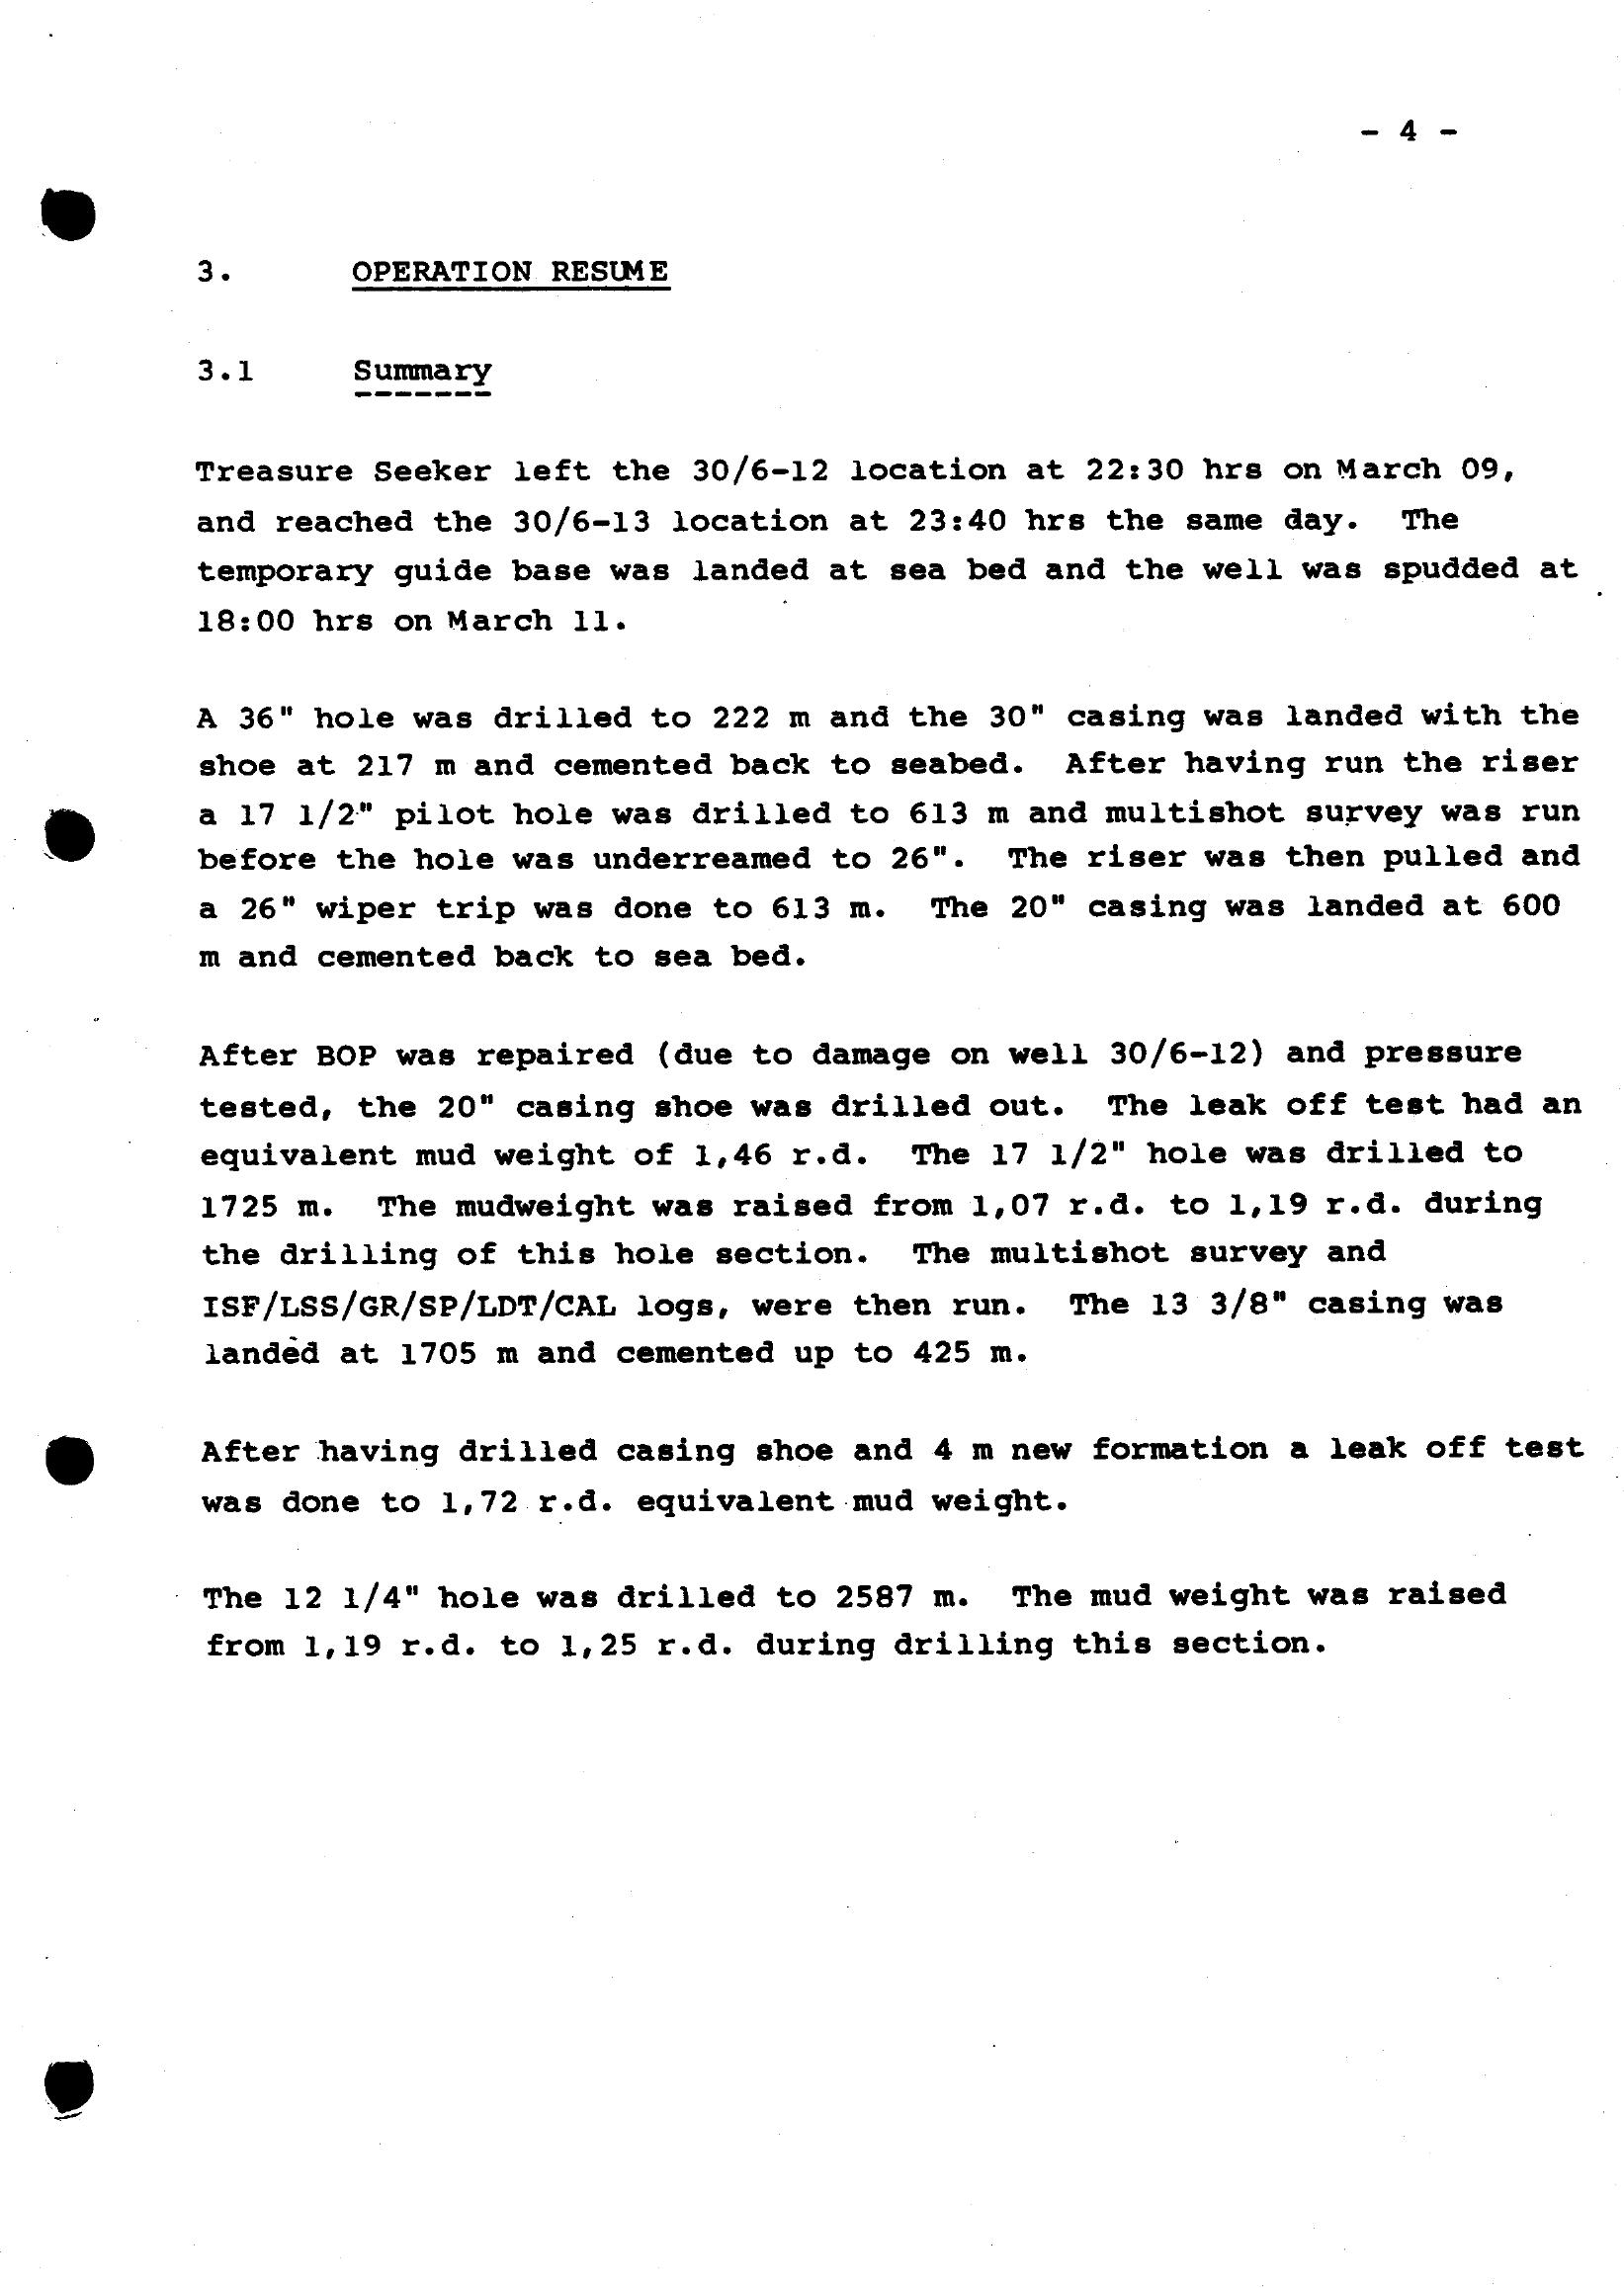text: (142, 223, 1624, 1705)
